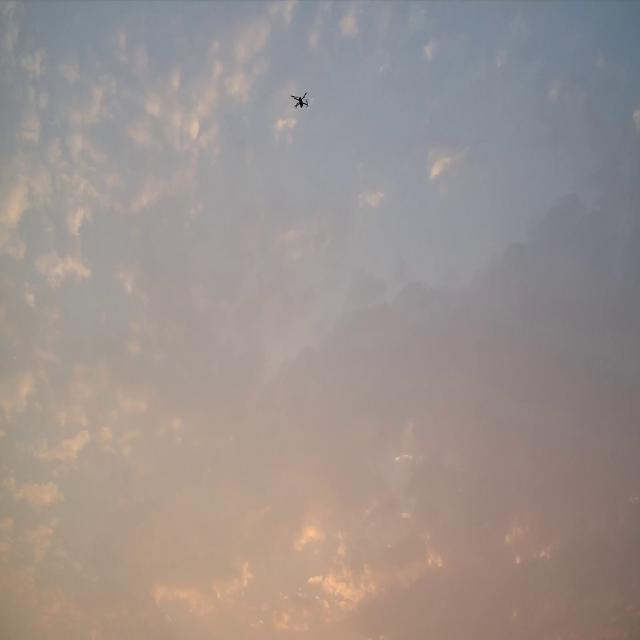drone: (290, 92, 309, 110)
